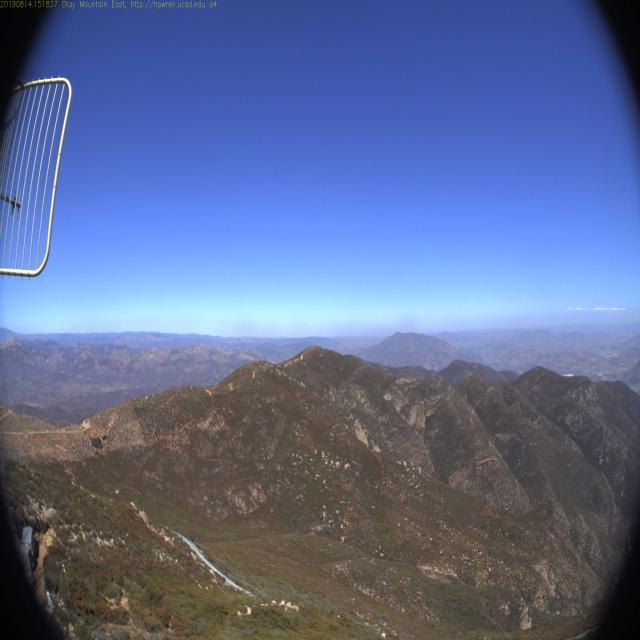smoke: (474, 335, 499, 373)
